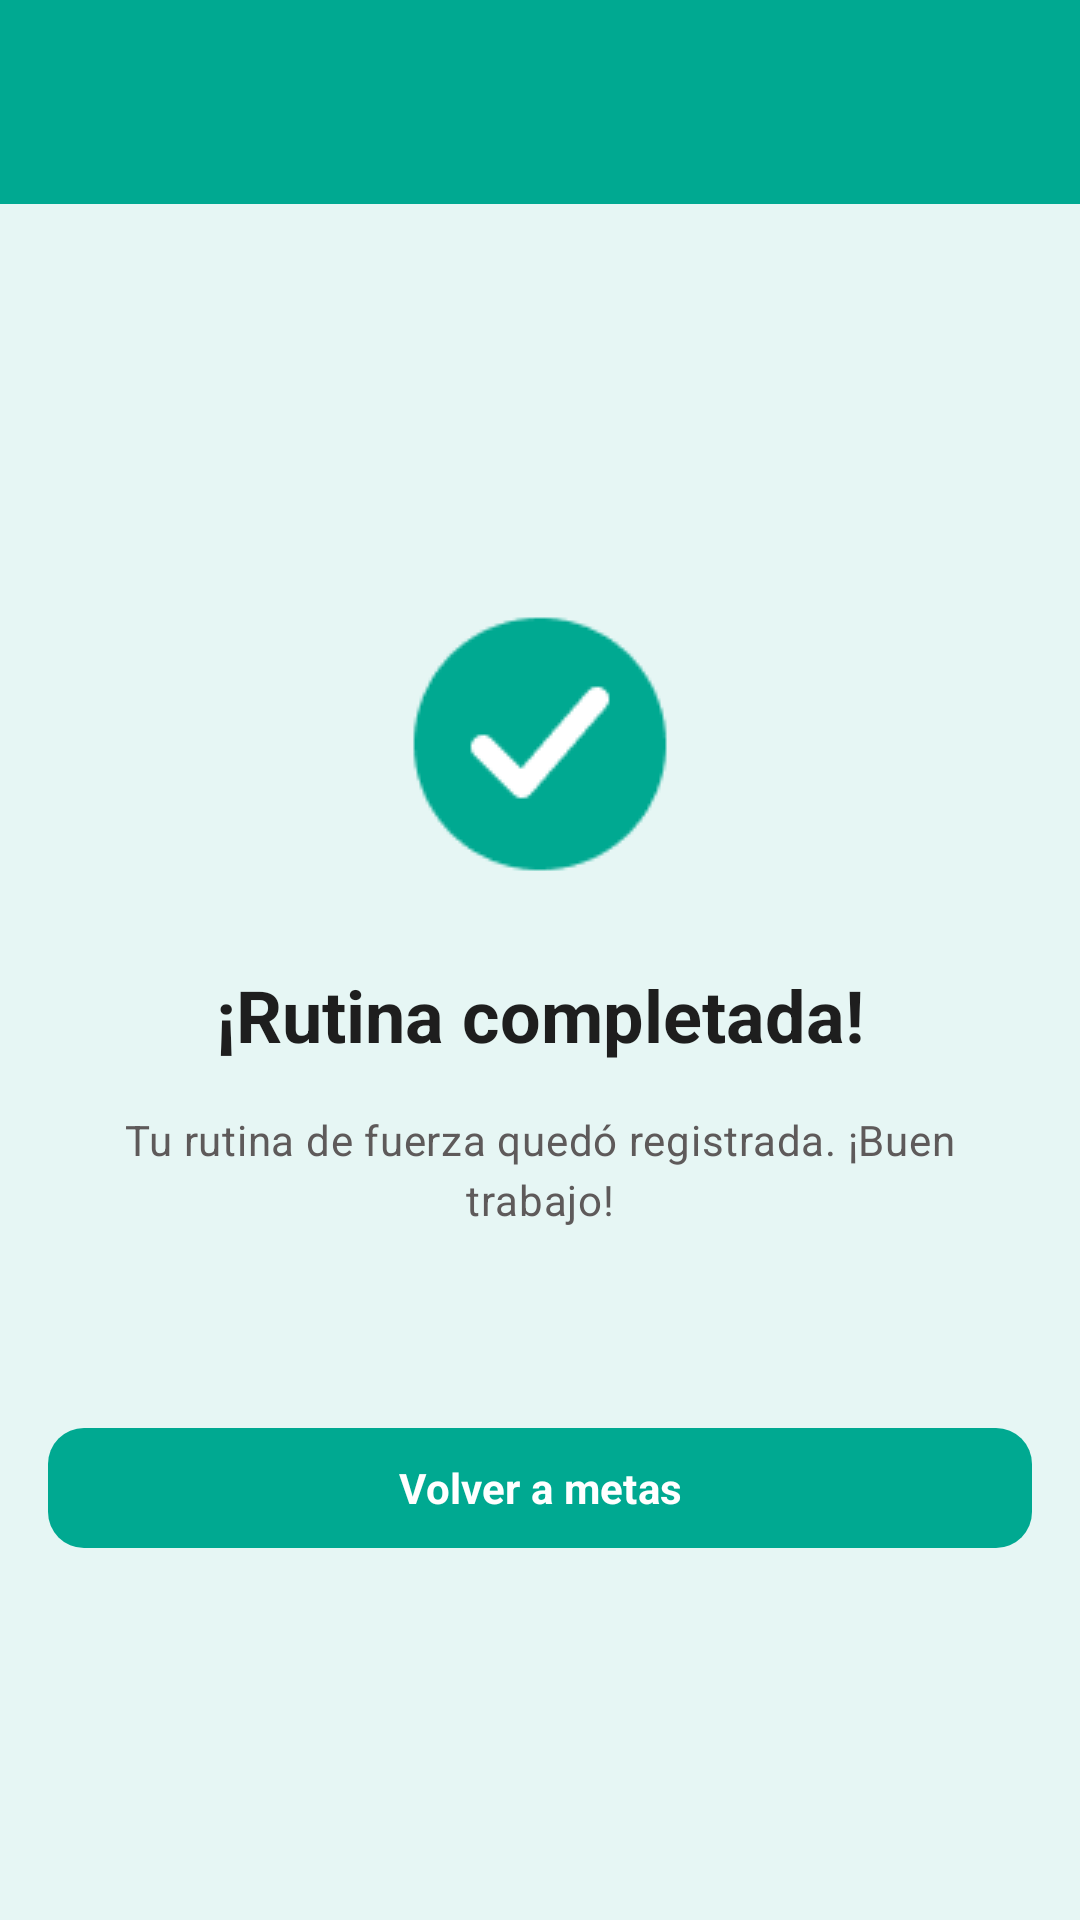

Icons on this 1080 x 1920 Android screen, each with the point to tap as (x,y):
Operación completada: (540,744)
